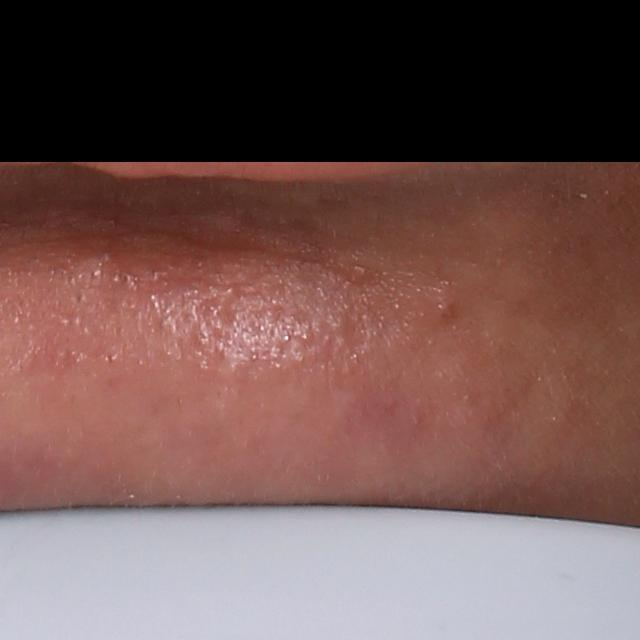papule: (431, 293, 469, 320)
